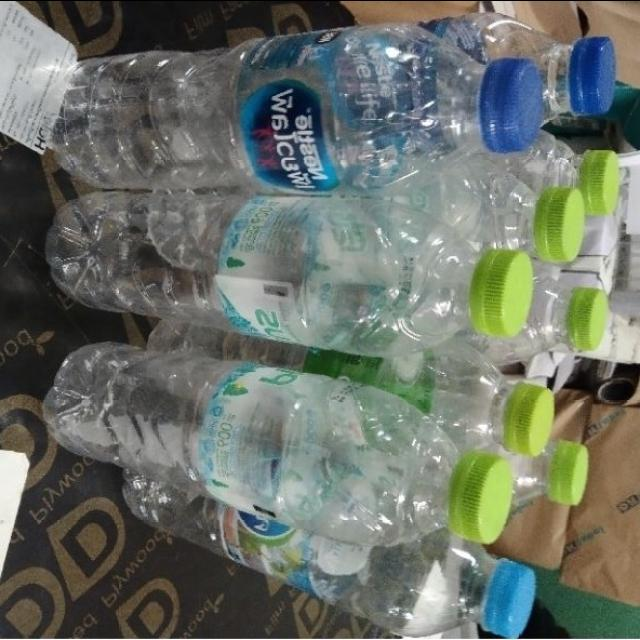plastik: (44, 342, 513, 545), (51, 23, 541, 191), (45, 192, 532, 354), (123, 471, 536, 637), (147, 319, 554, 456), (420, 11, 617, 123), (391, 156, 585, 261)
